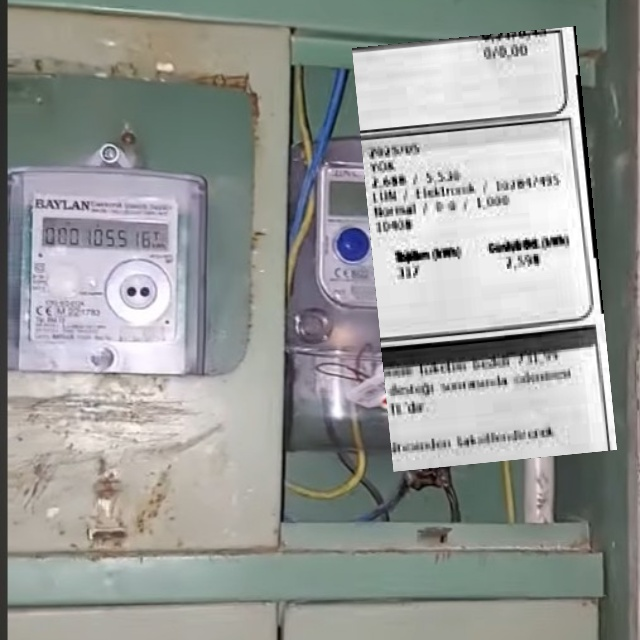electricity-bill: (352, 25, 616, 471)
